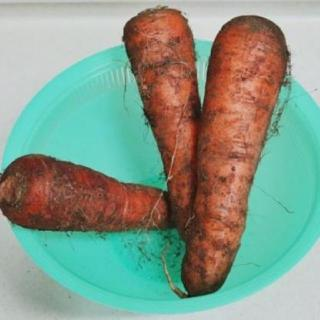carrot: (184, 17, 287, 295), (120, 7, 206, 255), (3, 149, 176, 253)
